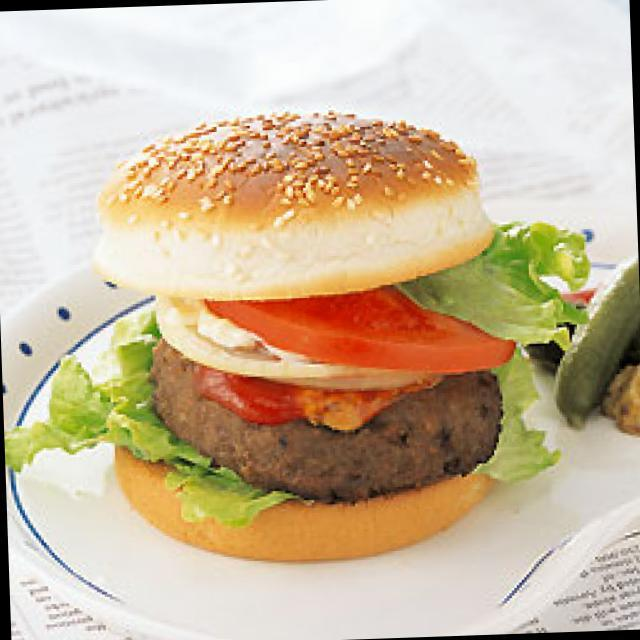Hamburger: (87, 96, 560, 568)
